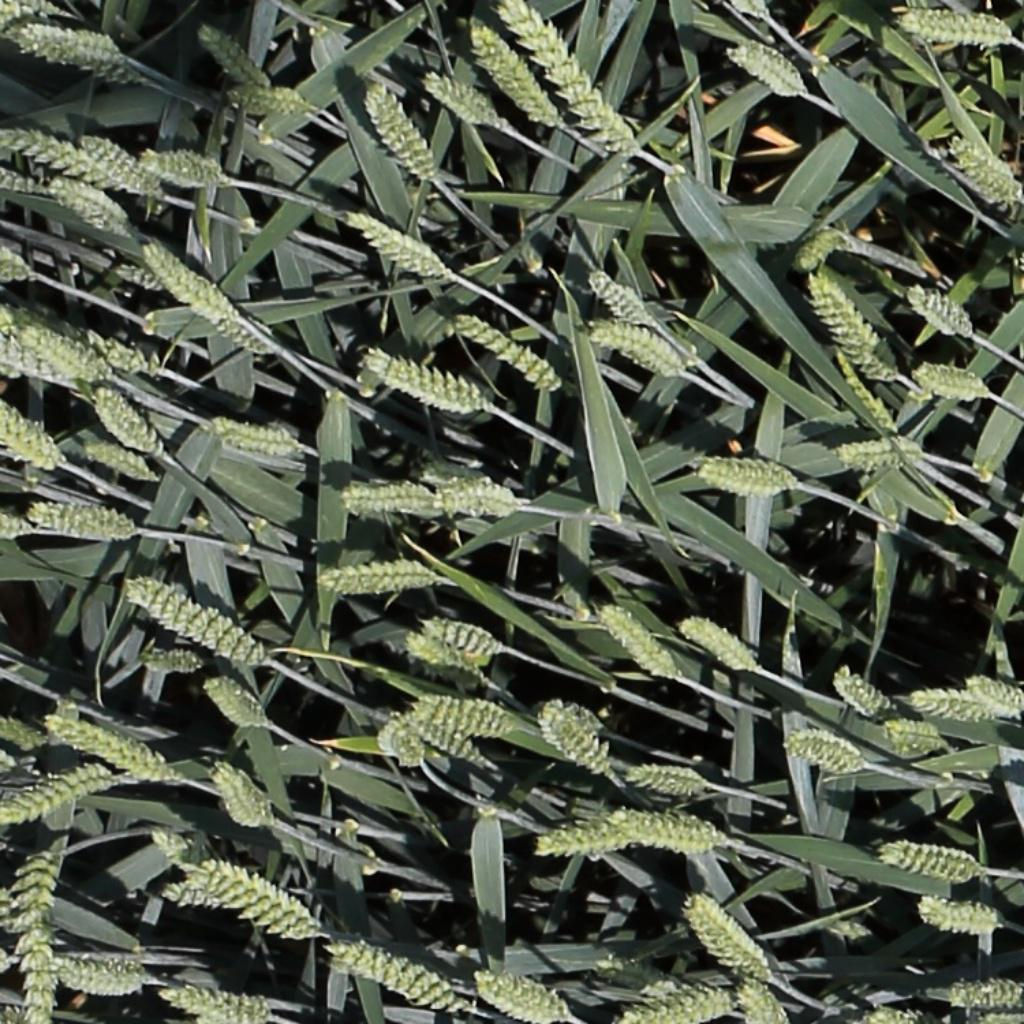0-0: (488, 0, 633, 150), (178, 857, 321, 943), (121, 576, 260, 661), (323, 935, 464, 1013), (802, 263, 895, 380), (43, 709, 180, 785), (464, 23, 558, 128), (133, 238, 245, 325), (449, 309, 566, 391), (0, 119, 129, 193), (0, 19, 141, 83), (680, 890, 774, 982), (344, 208, 457, 284), (0, 762, 120, 832), (361, 80, 438, 181), (828, 342, 906, 439), (360, 349, 484, 409), (18, 848, 59, 1024), (608, 799, 731, 856), (385, 706, 491, 772), (54, 317, 162, 378), (598, 603, 678, 684), (16, 323, 117, 387), (78, 133, 169, 201), (472, 967, 575, 1024), (408, 692, 531, 739), (88, 383, 162, 460), (685, 453, 803, 501), (890, 6, 1018, 50), (942, 131, 1022, 201), (27, 496, 142, 544), (49, 951, 150, 1004), (539, 705, 610, 780), (192, 21, 267, 92), (205, 759, 277, 832), (316, 554, 438, 597), (612, 984, 742, 1024), (412, 456, 525, 502), (21, 19, 130, 66), (878, 840, 984, 887), (132, 142, 229, 193), (587, 324, 679, 374), (525, 819, 634, 861), (340, 474, 442, 518), (678, 617, 756, 674), (584, 264, 652, 329), (780, 728, 867, 778), (207, 414, 301, 459), (0, 398, 60, 468), (589, 949, 685, 992), (726, 43, 805, 95), (156, 980, 273, 1015), (46, 177, 126, 228), (903, 683, 1001, 724), (830, 665, 902, 720), (431, 478, 531, 517), (836, 432, 928, 474), (421, 74, 496, 124), (915, 893, 1002, 935), (419, 613, 507, 654), (905, 285, 974, 337), (205, 311, 281, 358), (910, 361, 993, 403), (199, 679, 266, 731), (145, 823, 214, 872), (79, 441, 157, 483), (878, 712, 951, 756), (540, 695, 612, 739), (0, 336, 62, 387), (400, 636, 477, 675), (622, 762, 713, 795), (941, 974, 1022, 1011), (731, 977, 791, 1024), (963, 677, 1024, 721), (378, 721, 430, 772), (225, 88, 307, 119), (108, 252, 169, 293), (153, 880, 225, 912), (0, 0, 80, 27), (0, 239, 42, 289), (0, 300, 51, 341), (791, 228, 839, 270), (0, 164, 52, 201), (846, 1000, 923, 1024), (0, 715, 48, 750), (0, 502, 42, 542), (140, 647, 207, 671), (192, 1005, 270, 1024), (0, 753, 38, 787), (0, 887, 26, 933), (731, 0, 772, 20), (0, 946, 18, 982)
